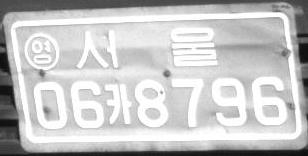0: (32, 80, 68, 130)
6: (251, 75, 287, 127), (70, 80, 104, 129)
7: (170, 77, 204, 128)
8: (133, 78, 169, 128)
9: (210, 76, 246, 127)
서울_D: (76, 25, 218, 70)
영: (23, 32, 59, 71)
카: (104, 82, 132, 124)
